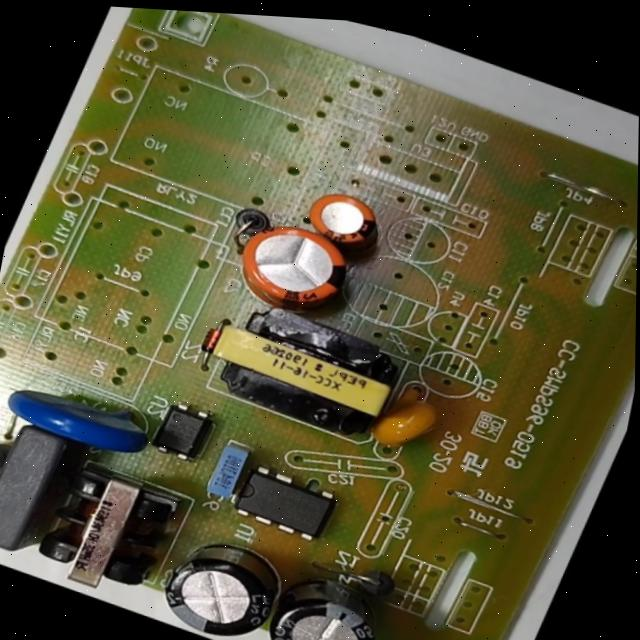Cap1: (210, 199, 374, 333)
Cap2: (280, 168, 406, 268)
Cap3: (137, 515, 307, 640)
Cap4: (253, 557, 408, 640)
MOSFET: (216, 453, 354, 563)
Mov: (0, 367, 162, 471)
Resistor: (0, 431, 12, 487)
Transformer: (184, 277, 423, 465), (22, 445, 193, 615)
